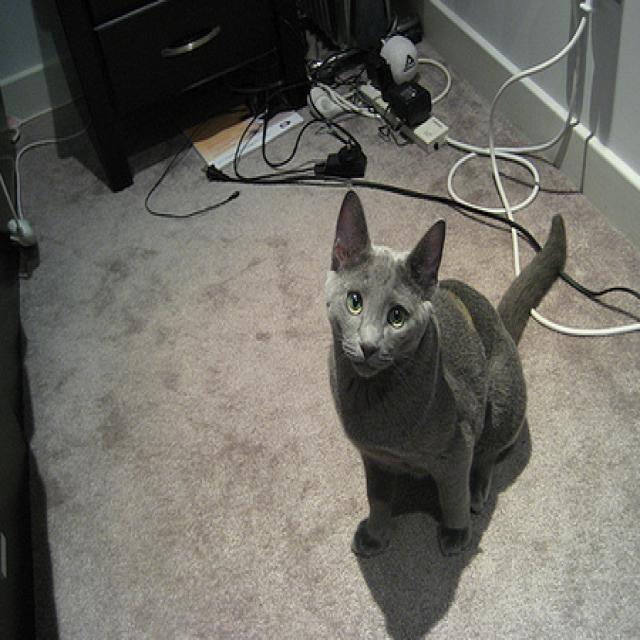Russian Blue: (323, 185, 569, 569)
